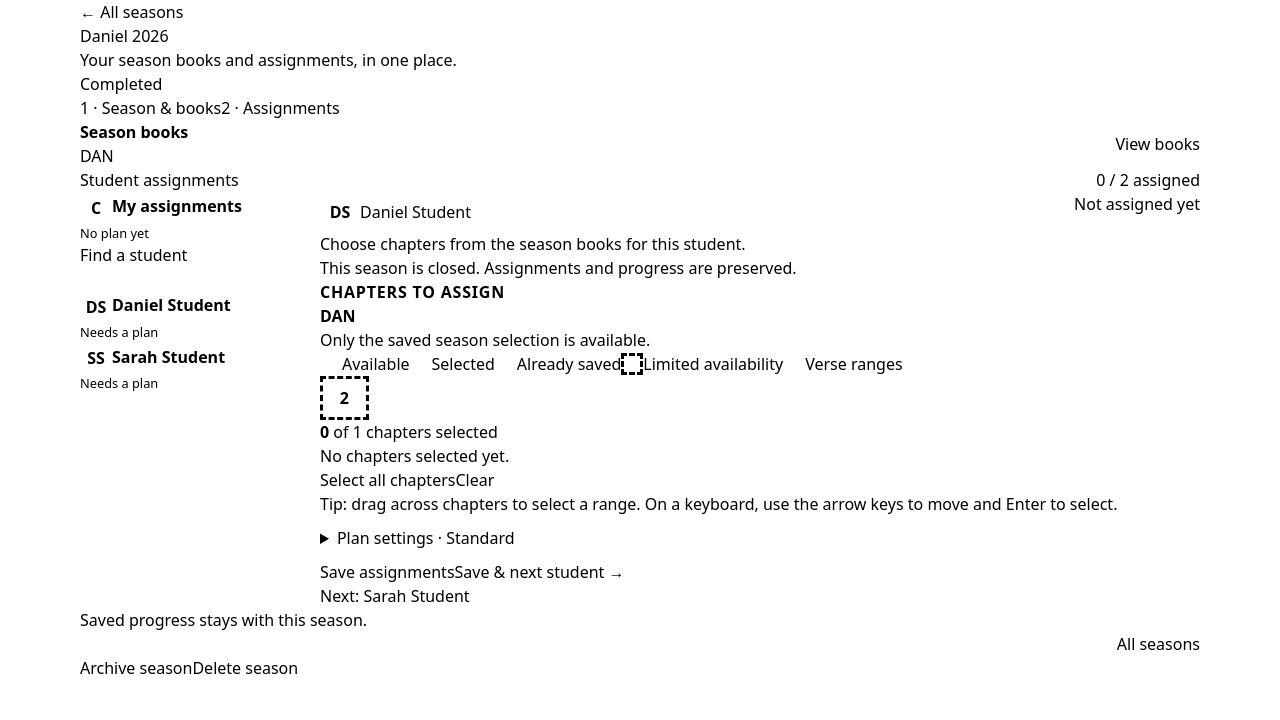
Test: allows archiving a completed season
Click the button "Archive season" at (136, 668), box [80,656,192,680]
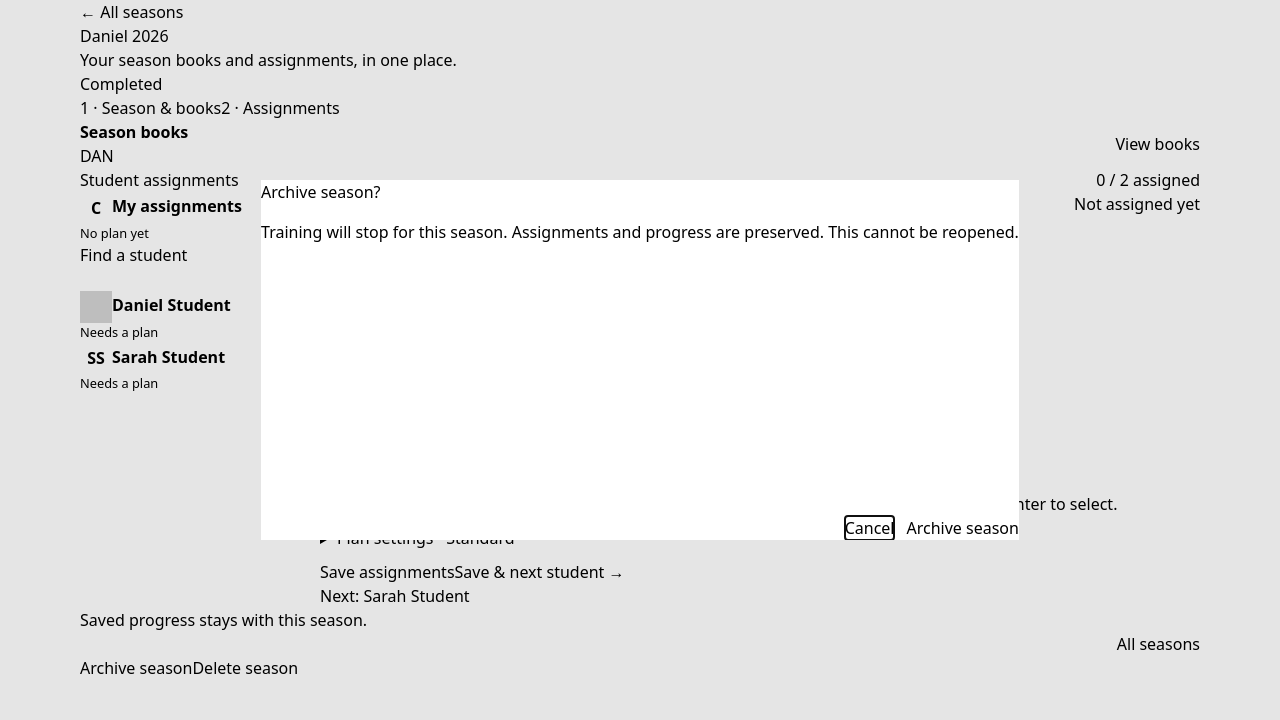
Expected: the dialog shows "Archive season", [906,516,1019,540]
